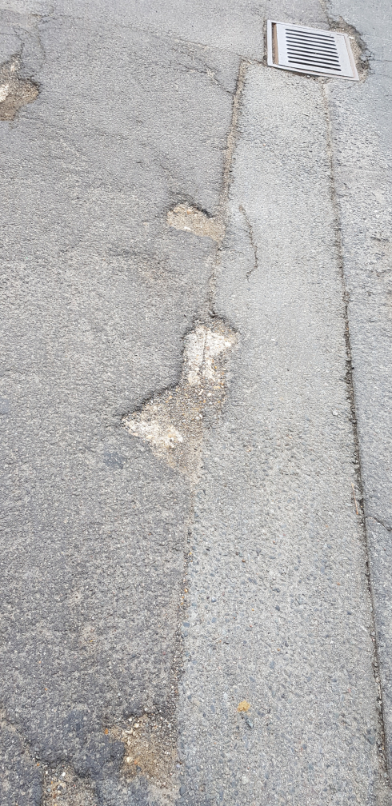pothole: (115, 305, 245, 474), (107, 700, 190, 788), (159, 184, 236, 252), (0, 43, 48, 126), (30, 754, 98, 806)
